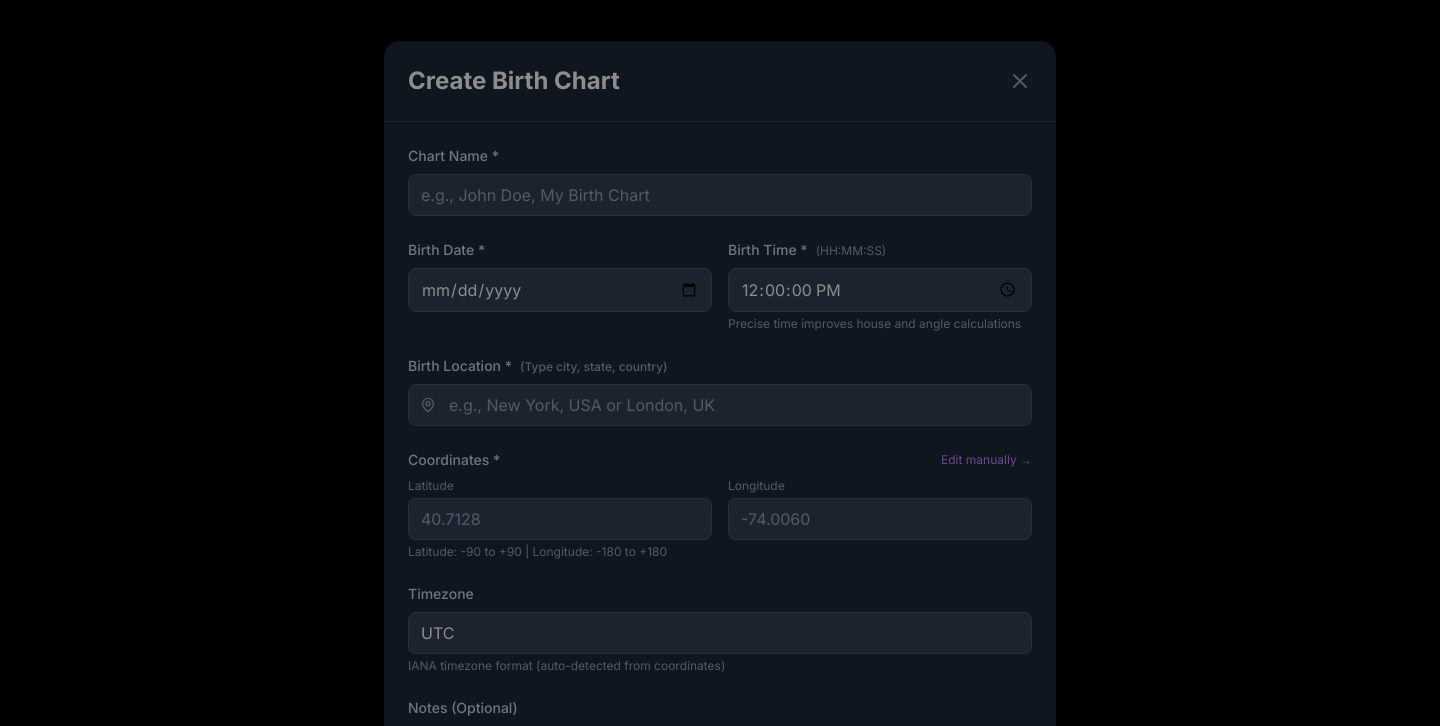
Test: BirthChartForm - Geocoding Integration › Location Search › should display search results in dropdown
Type "New York" into the field with placeholder "e.g., New York, USA or London, UK".
click(720, 404); type("New York")  # box [408,384,1032,426]
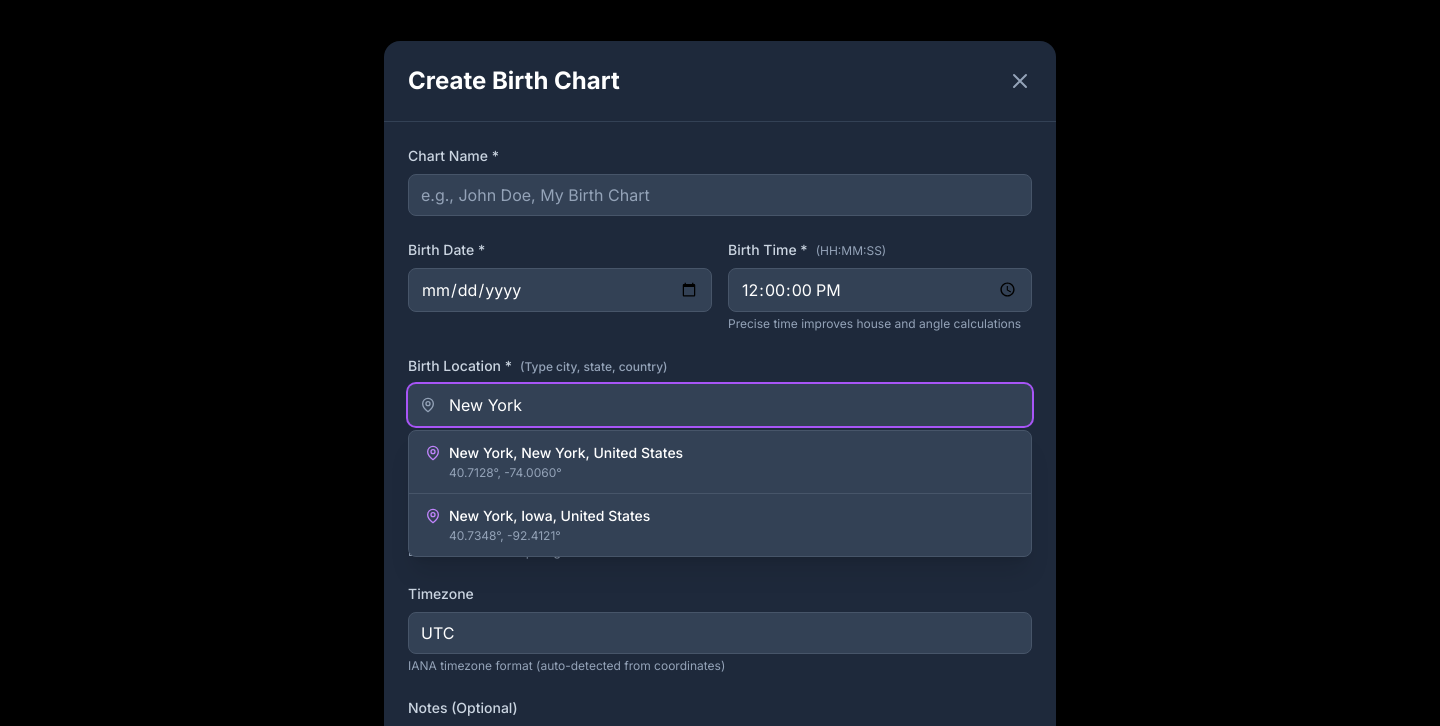
Expected: the text "New York, New York, United States" is shown, [449,444,683,460]
Expected: the text "New York, Iowa, United States" is shown, [449,506,650,524]
